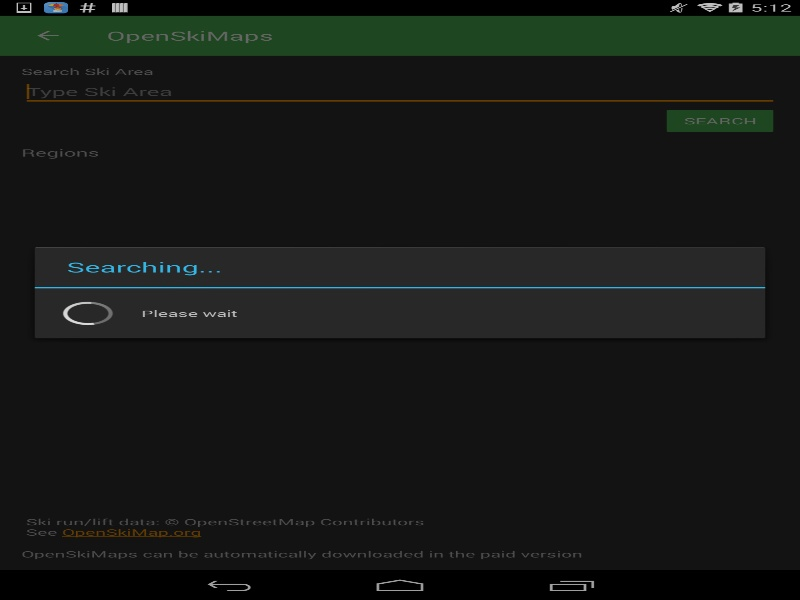Button: (661, 105, 778, 135), (10, 15, 85, 55)
Input: (21, 77, 778, 105)
